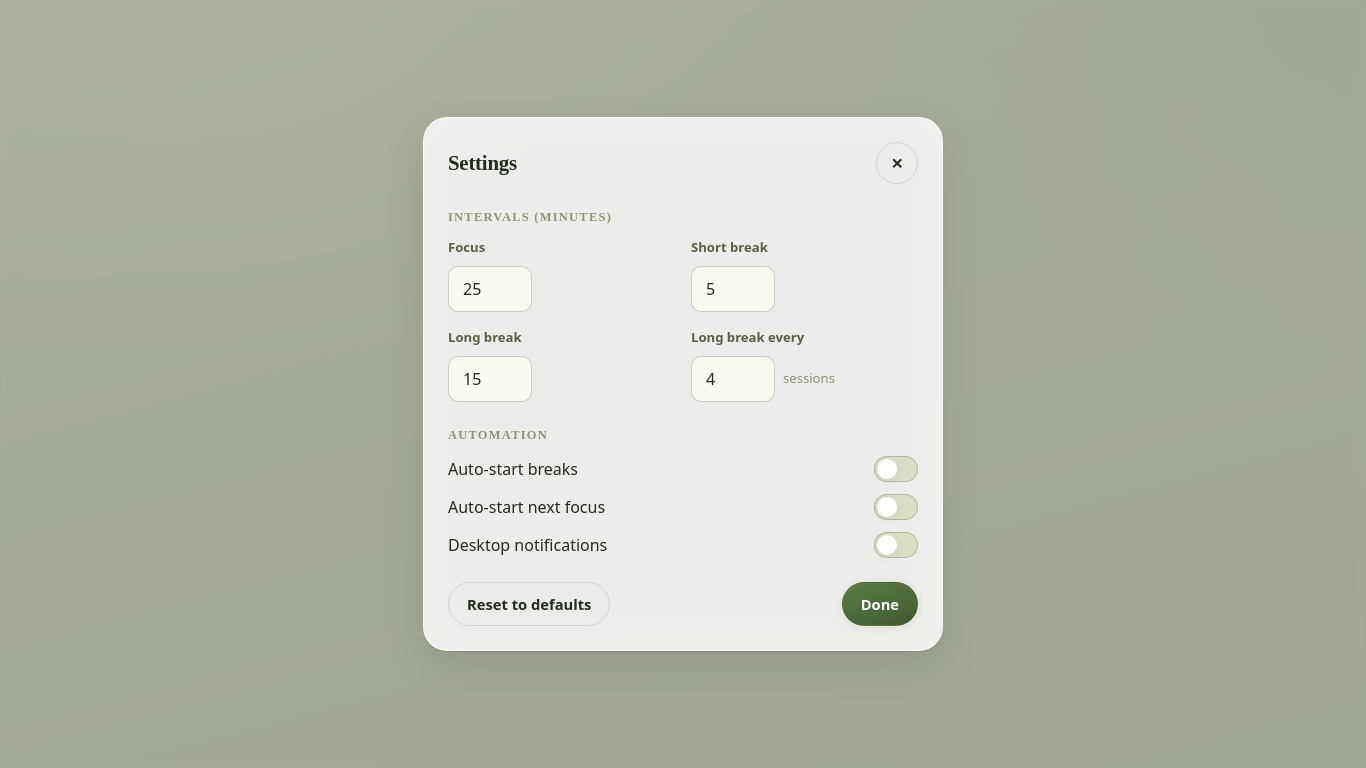
Scenario: SettingsPanel › resets to defaults
This screenshot has width=1366, height=768.
Replace the text in the 1st number field with "50" at x=490, y=289, box [448,266,532,312]
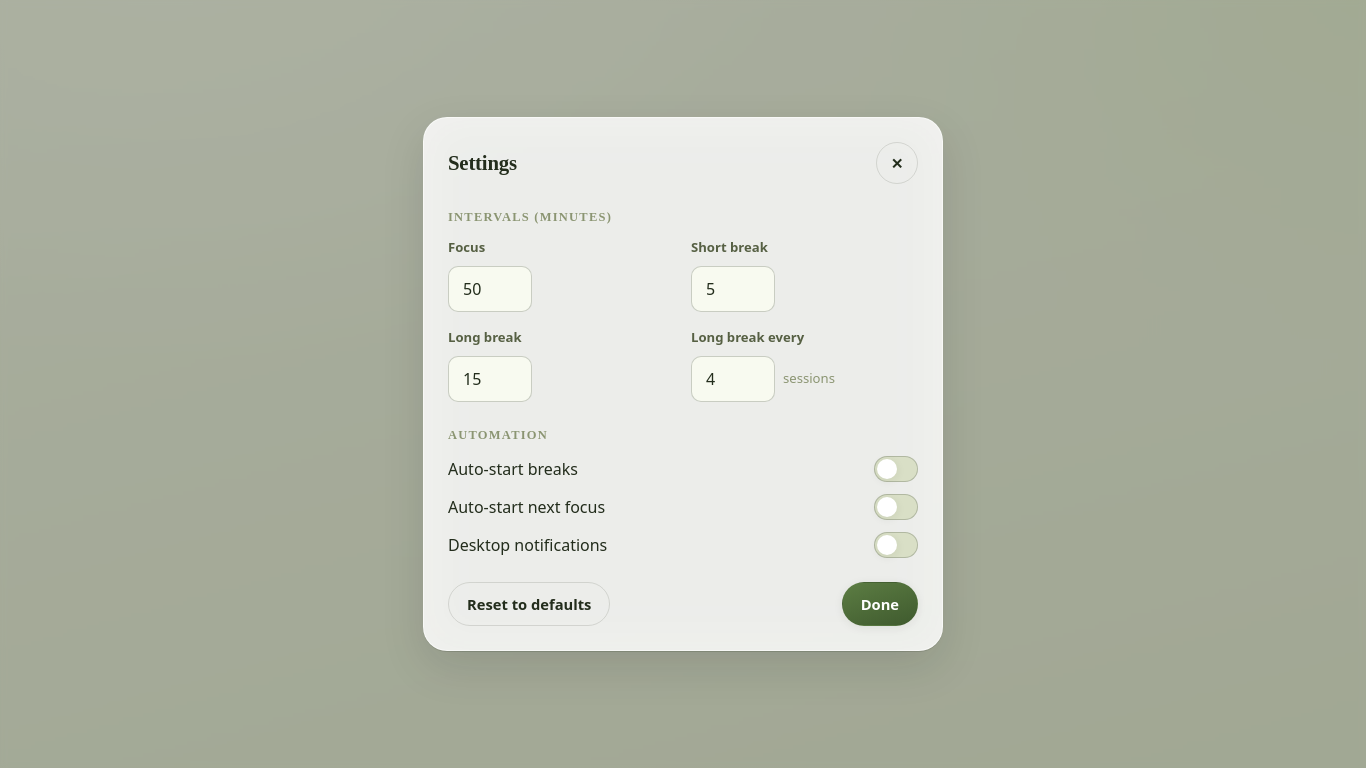
Click the button "Reset to defaults" at x=529, y=604, box [448,582,610,626]
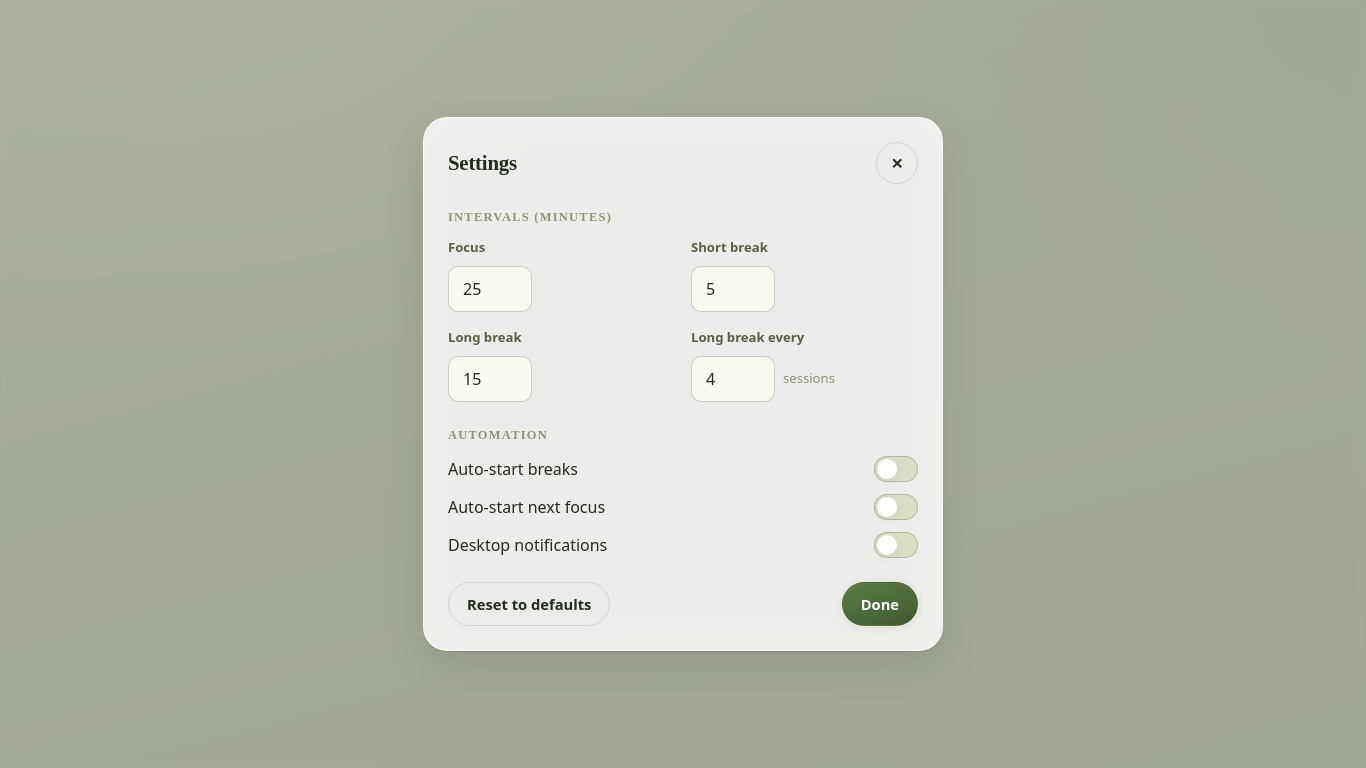
Result: the 1st number field holds "25" at [448,266,532,312]
